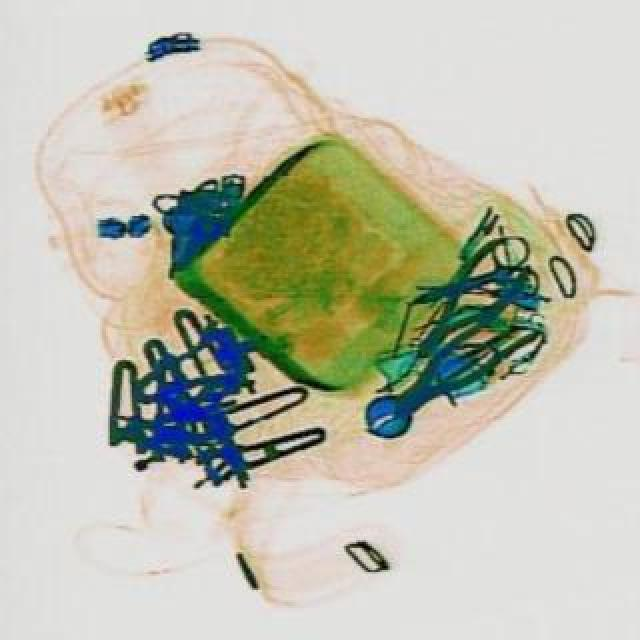pliers: (392, 226, 540, 328)
wrench: (378, 296, 534, 426), (390, 234, 534, 372)
